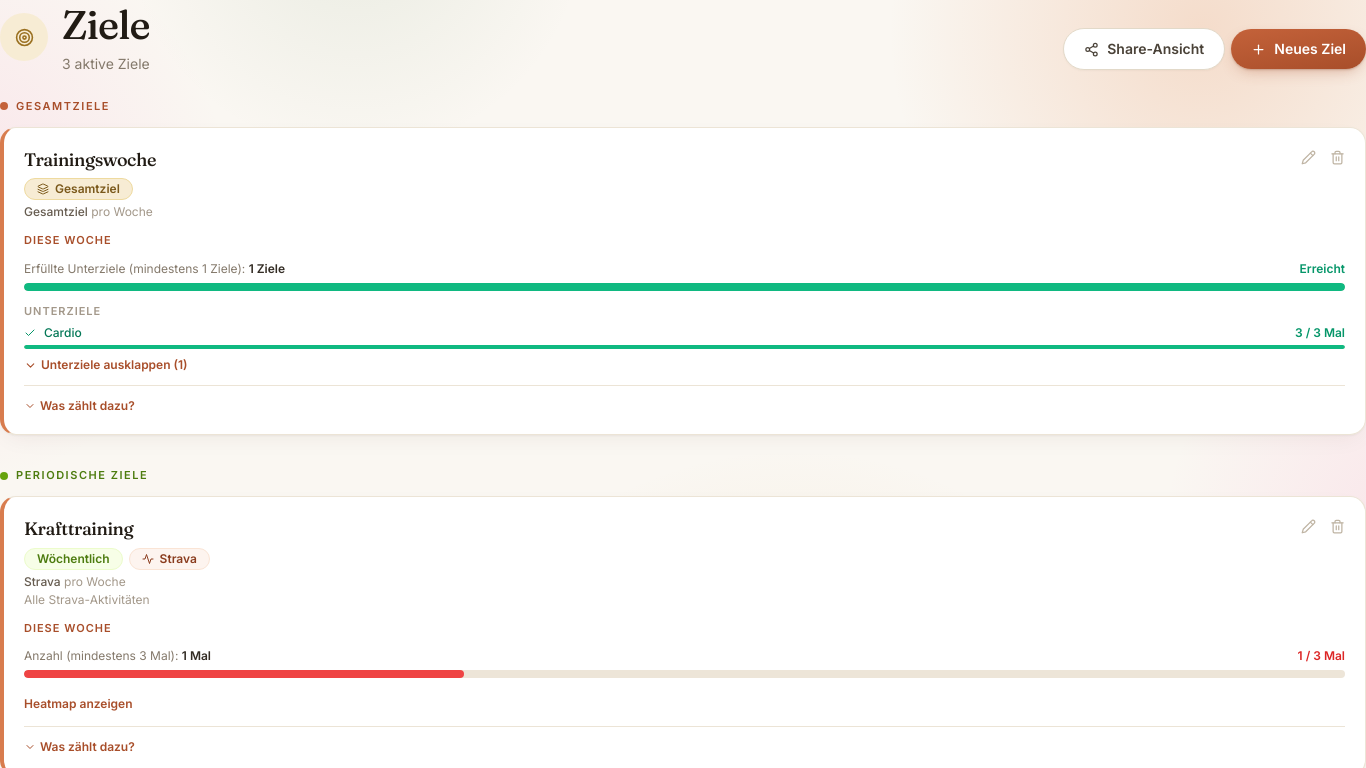
Test case: Goals – hierarchy display › reveals the contributing entries behind "Was zählt dazu?" of an expanded child
Expected: the heading "Trainingswoche" is shown, left=24, top=148, right=156, bottom=170
Step 1. Click the button "Unterziele ausklappen (1)" → (106, 364), box left=24, top=355, right=188, bottom=373
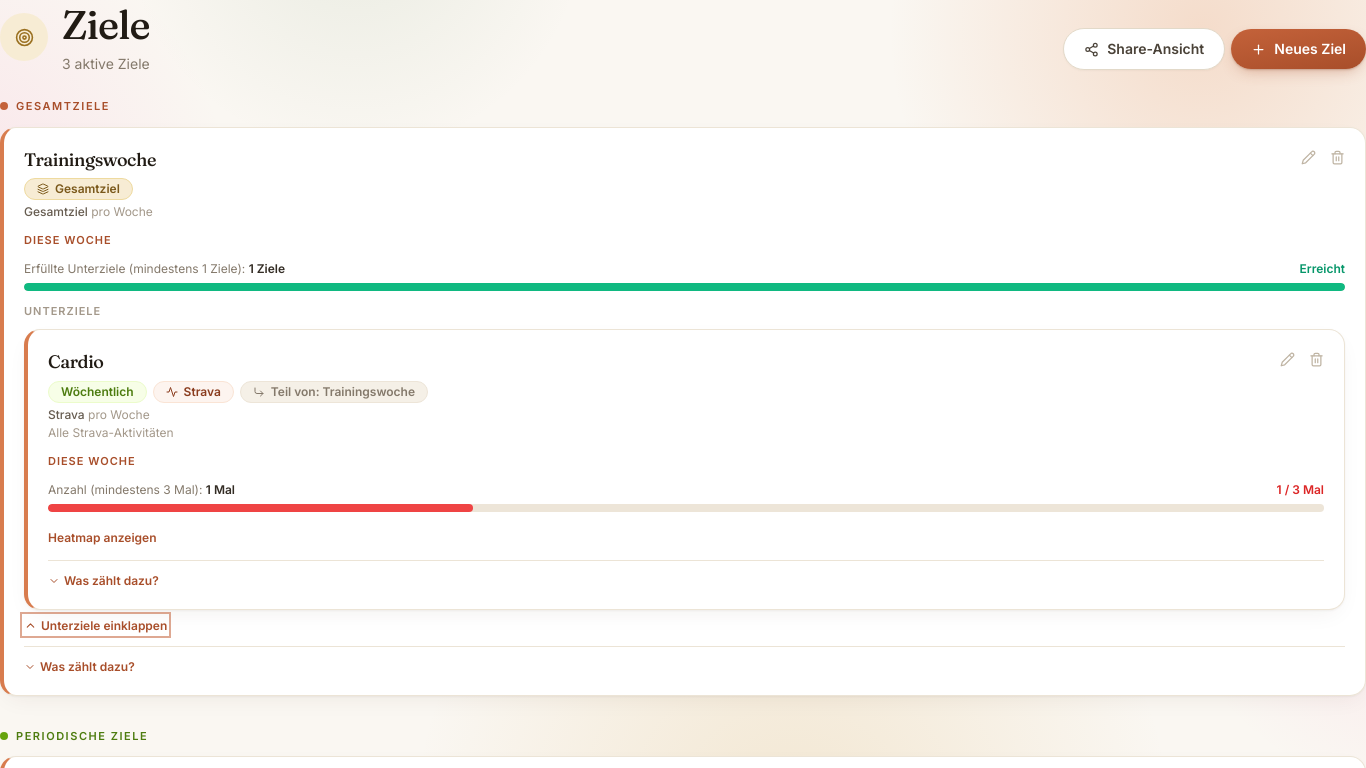
Expected: the heading "Cardio" is shown, left=48, top=350, right=103, bottom=373
Step 2. Click the button "Was zählt dazu?" below "Teil von:" → (103, 580), box left=48, top=572, right=159, bottom=588
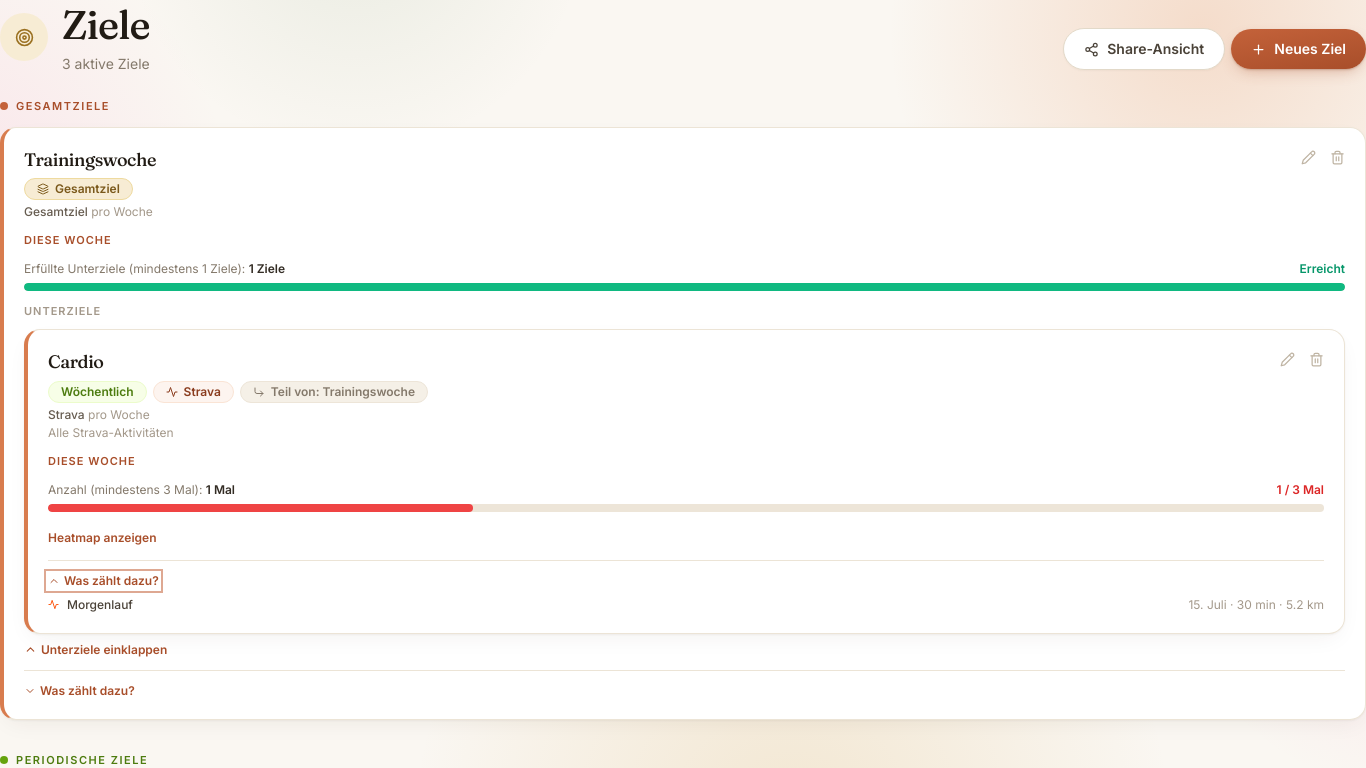
Expected: the text "Morgenlauf" is shown, left=67, top=596, right=133, bottom=612
Expected: the text "15. Juli · 30 min · 5.2 km" is shown, left=1188, top=596, right=1324, bottom=612
